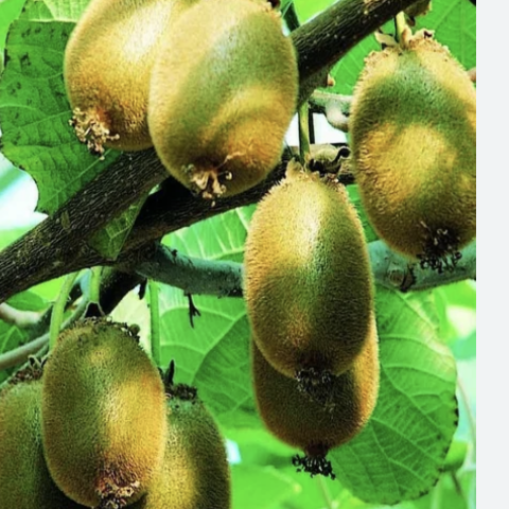kiwi: (330, 36, 508, 292), (223, 155, 392, 391), (145, 0, 331, 197), (25, 316, 178, 507)
